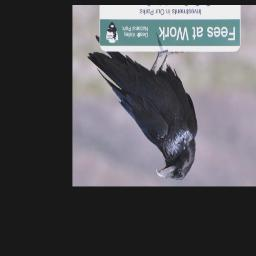Crow: (87, 34, 198, 181)
